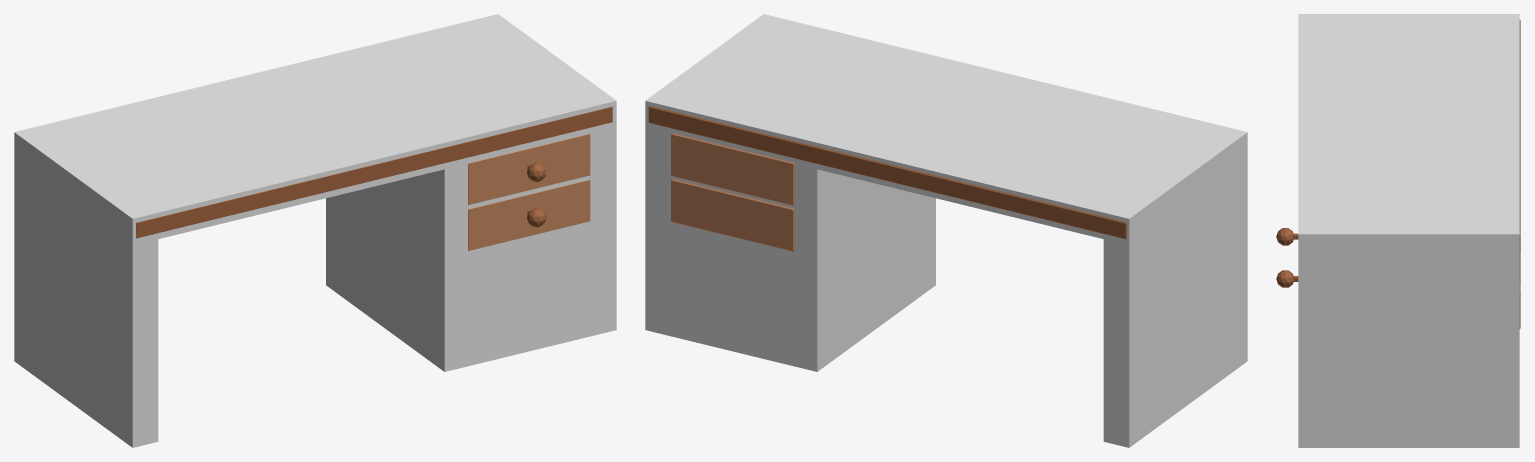
Rendered from desk.glb.
The picture shows the model from 3 angles, left to right: view 1: azimuth 30°, elevation 25°; view 2: azimuth 150°, elevation 25°; view 3: azimuth 270°, elevation 25°; orthographic projection. The views are drawn at different scales.
Parts seen in each view (by area): view 1: Desk_col, Desk; view 2: Desk_col, Desk; view 3: Desk_col, Desk.
Boxes of the visible parts, x1=… form: Desk_col: x1=14, y1=14, x2=616, y2=447; Desk: x1=136, y1=106, x2=612, y2=250; Desk_col: x1=645, y1=14, x2=1247, y2=447; Desk: x1=648, y1=106, x2=1126, y2=251; Desk_col: x1=1298, y1=14, x2=1519, y2=447; Desk: x1=1276, y1=19, x2=1520, y2=328.
Bounding box in the file's own units: 9.53 × 4.31 × 4.47.
